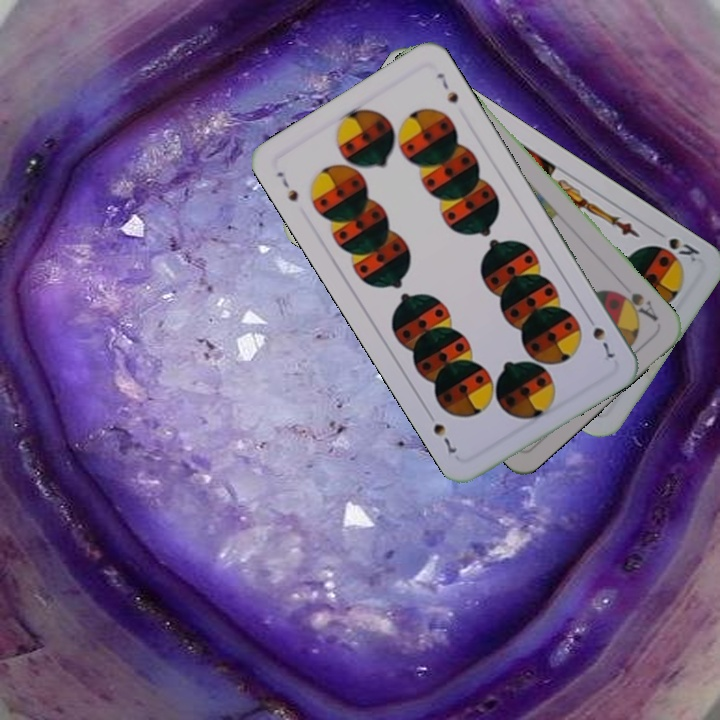S7: (582, 310, 617, 361), (272, 167, 301, 205)
SA: (610, 286, 661, 324)
SK: (650, 225, 703, 265)
